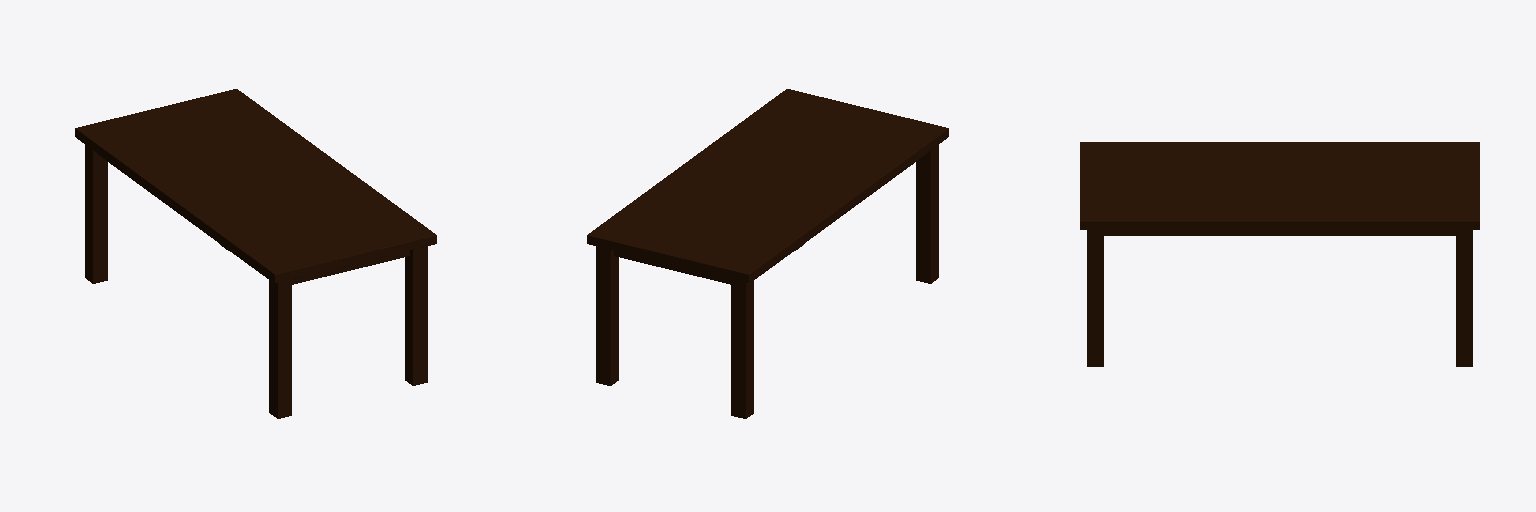
File: SM_Table_001.obj
3 views of the same model, side by side, from view 1: azimuth 30°, elevation 25°; view 2: azimuth 150°, elevation 25°; view 3: azimuth 270°, elevation 25° (orthographic).
Visible parts, largest first — view 1: pCube74; view 2: pCube74; view 3: pCube74.
Part boxes in pixels (x1,y1,x2,y2): pCube74: (75, 89, 436, 418); pCube74: (587, 89, 948, 418); pCube74: (1080, 142, 1479, 366).
Bounding box in the file's own units: 87.33 × 76.69 × 187.